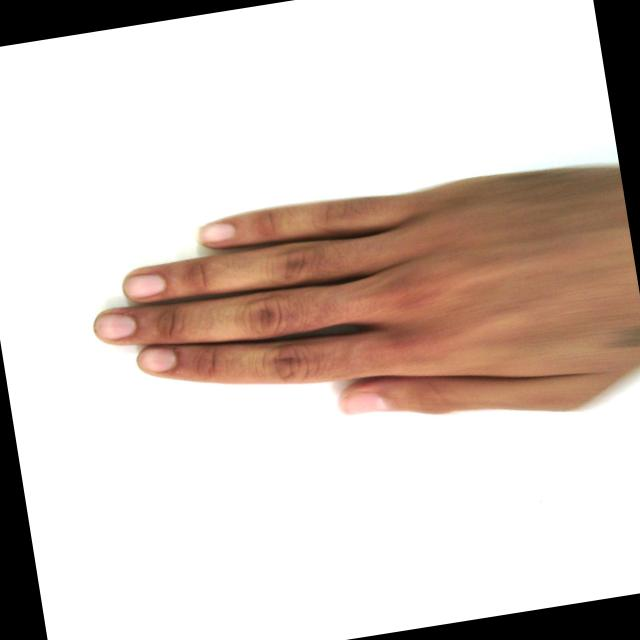Nail: (338, 392, 390, 415), (93, 314, 135, 340), (137, 346, 175, 373), (124, 274, 165, 299), (197, 223, 235, 245)
